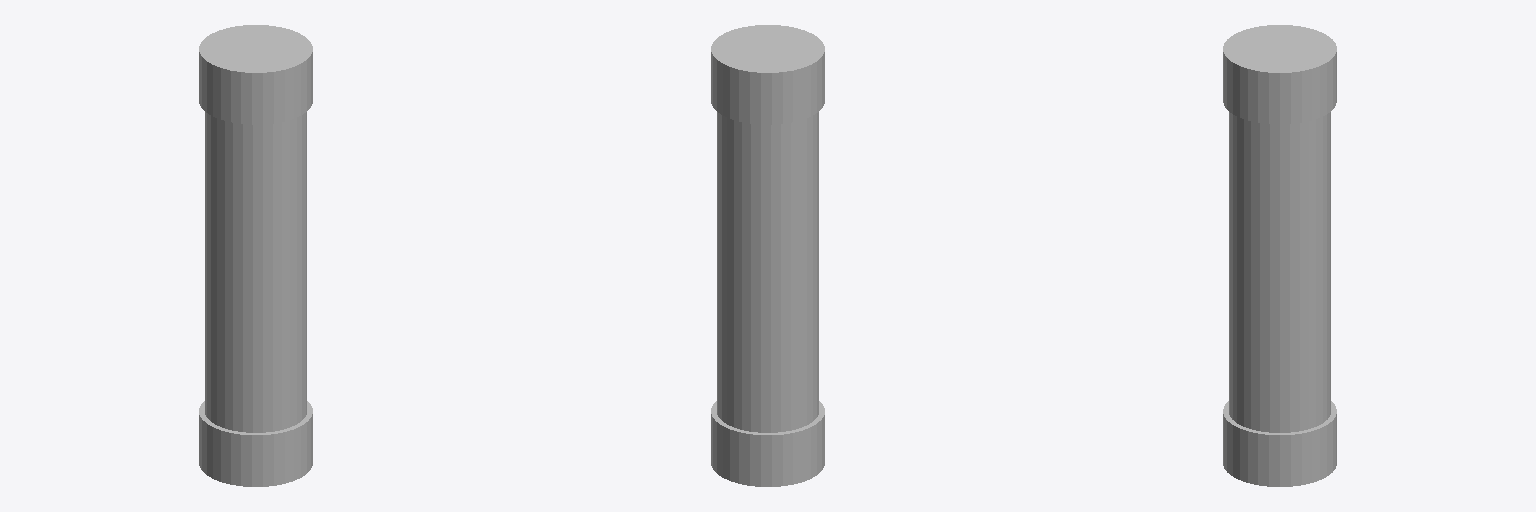
File: ChargeBlock.obj
The picture shows the model from 3 angles: view 1: azimuth 30°, elevation 25°; view 2: azimuth 150°, elevation 25°; view 3: azimuth 270°, elevation 25°; orthographic projection.
Parts seen in each view (by area): view 1: 円柱; view 2: 円柱; view 3: 円柱.
Part boxes in pixels (x1,y1,x2,y2): 円柱: (199, 25, 312, 486); 円柱: (711, 25, 824, 486); 円柱: (1223, 25, 1336, 486).
Bounding box in the file's own units: 0.25 × 1 × 0.25.